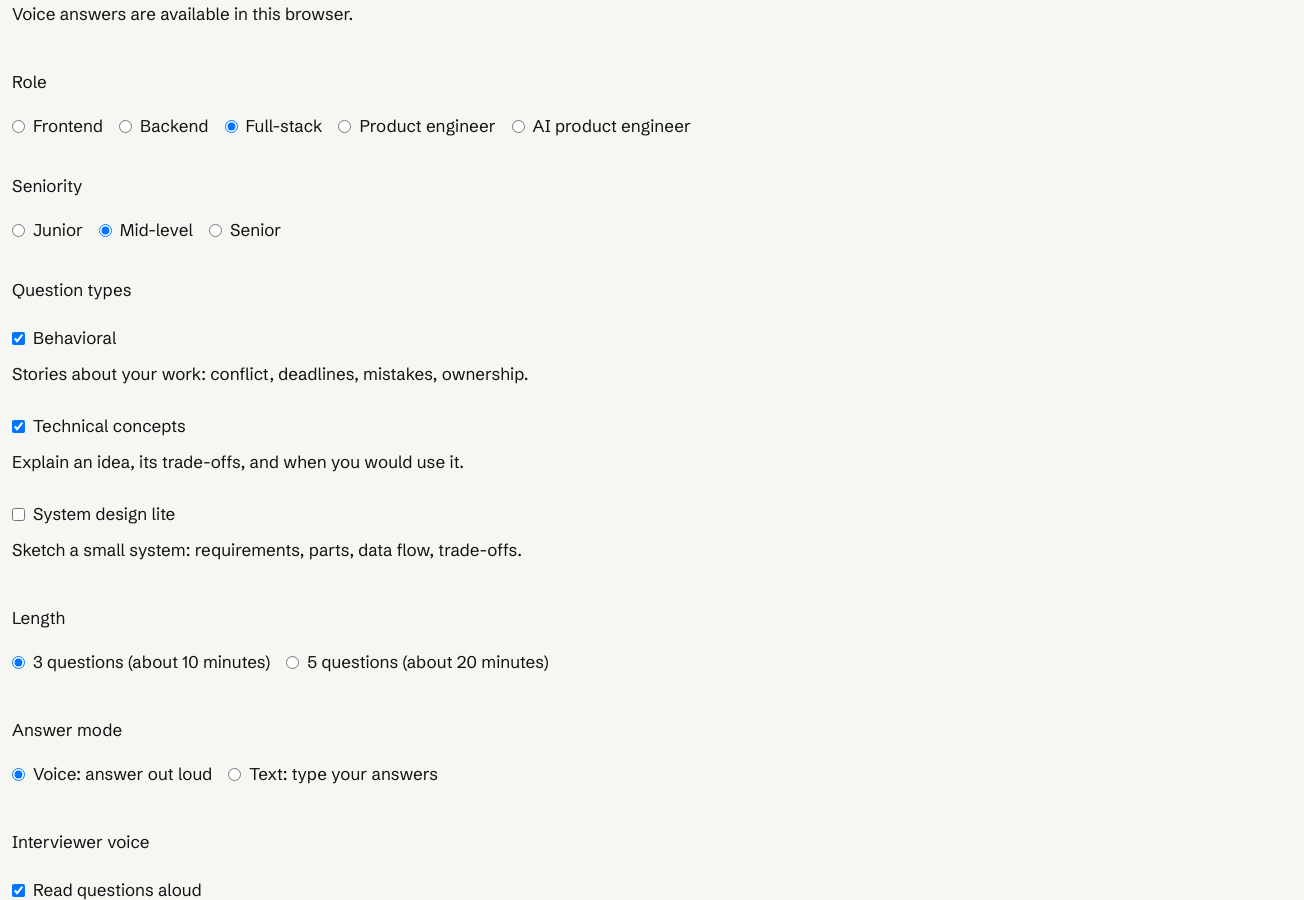
TC-033 CT-01 shows defaults, saves preferences and focuses missing question types
Expected: the radio button labelled "Full-stack" is checked, [225,120,238,132]
Expected: the radio button labelled "Mid-level" is checked, [99,224,112,236]
Click the radio button labelled "Backend" at (126, 126), box [119,120,132,132]
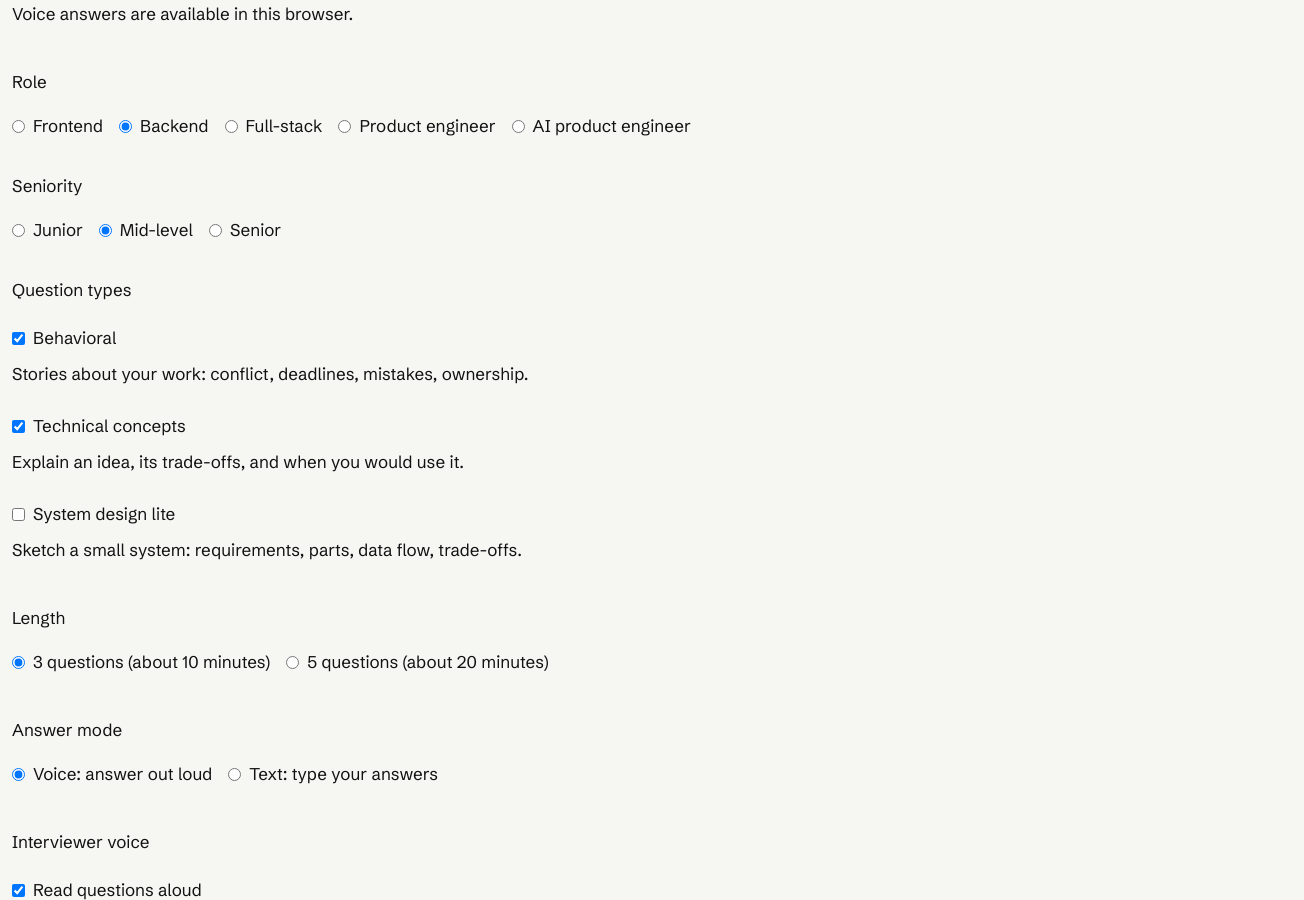
Click the radio button labelled "Text: type your answers" at (235, 774), box [228,768,241,780]
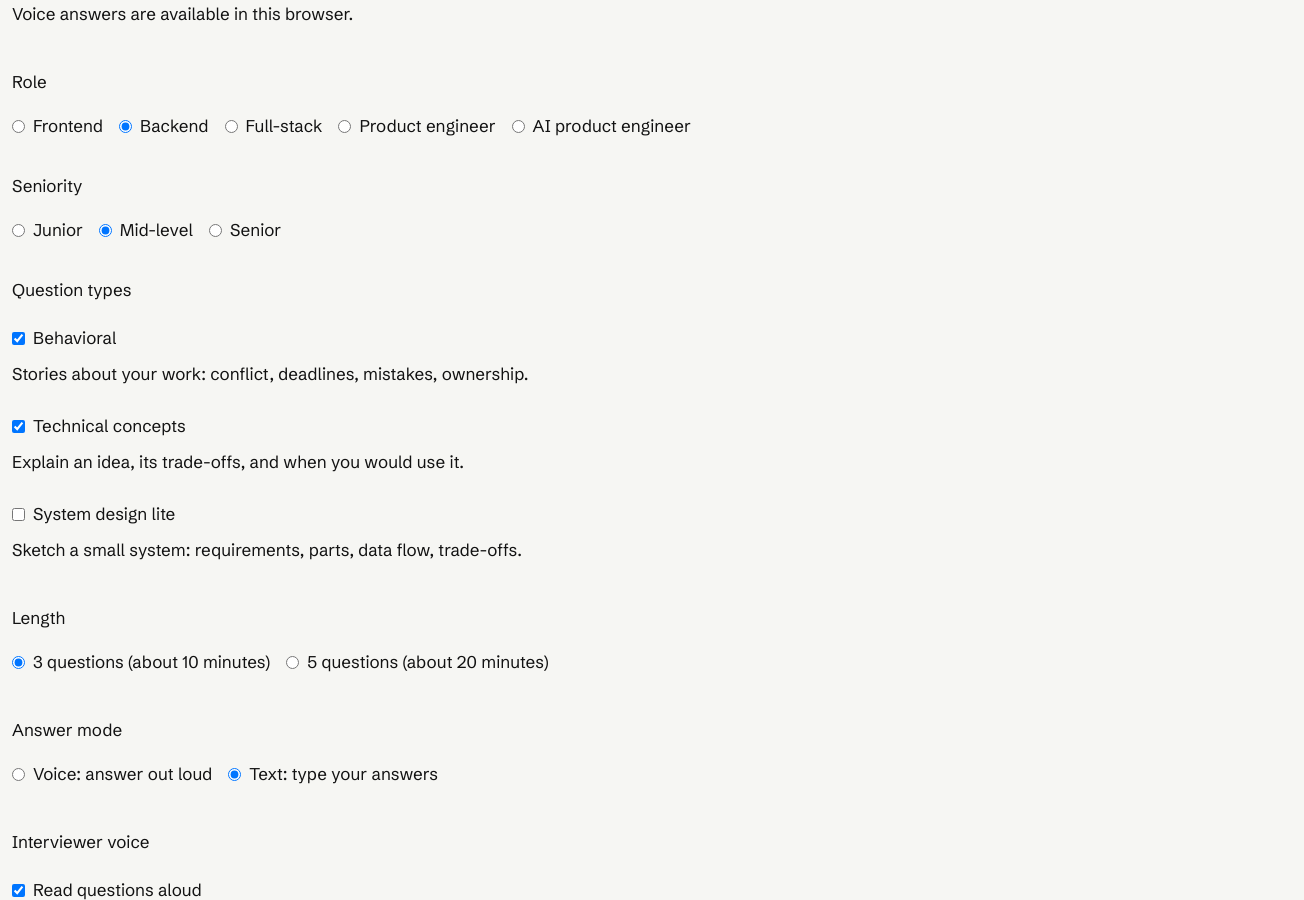
Click the checkbox labelled "Behavioral" at (18, 338), box [12,332,25,344]
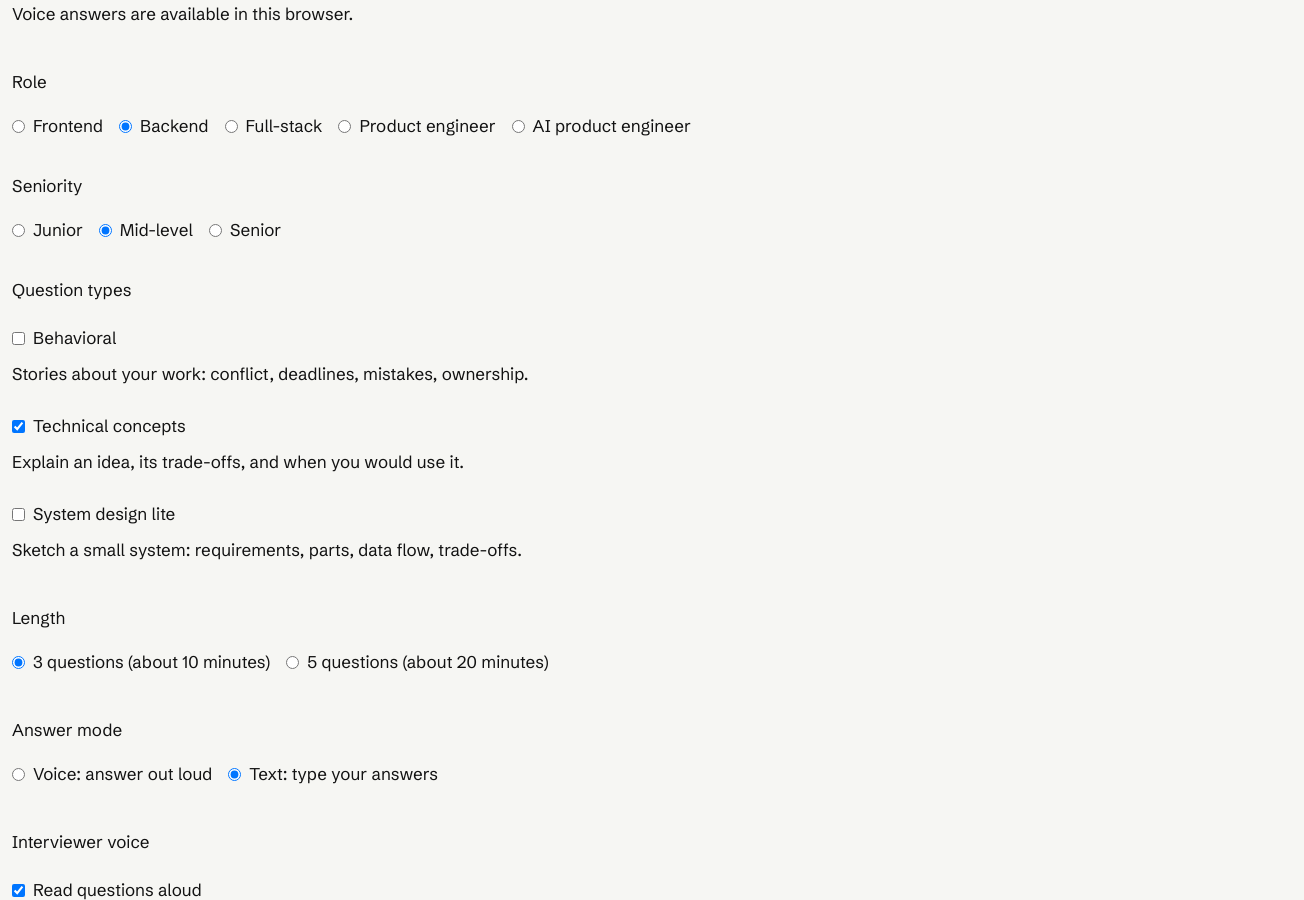
Click the checkbox labelled "Technical concepts" at (18, 426), box [12,420,25,432]
(page scrolled)
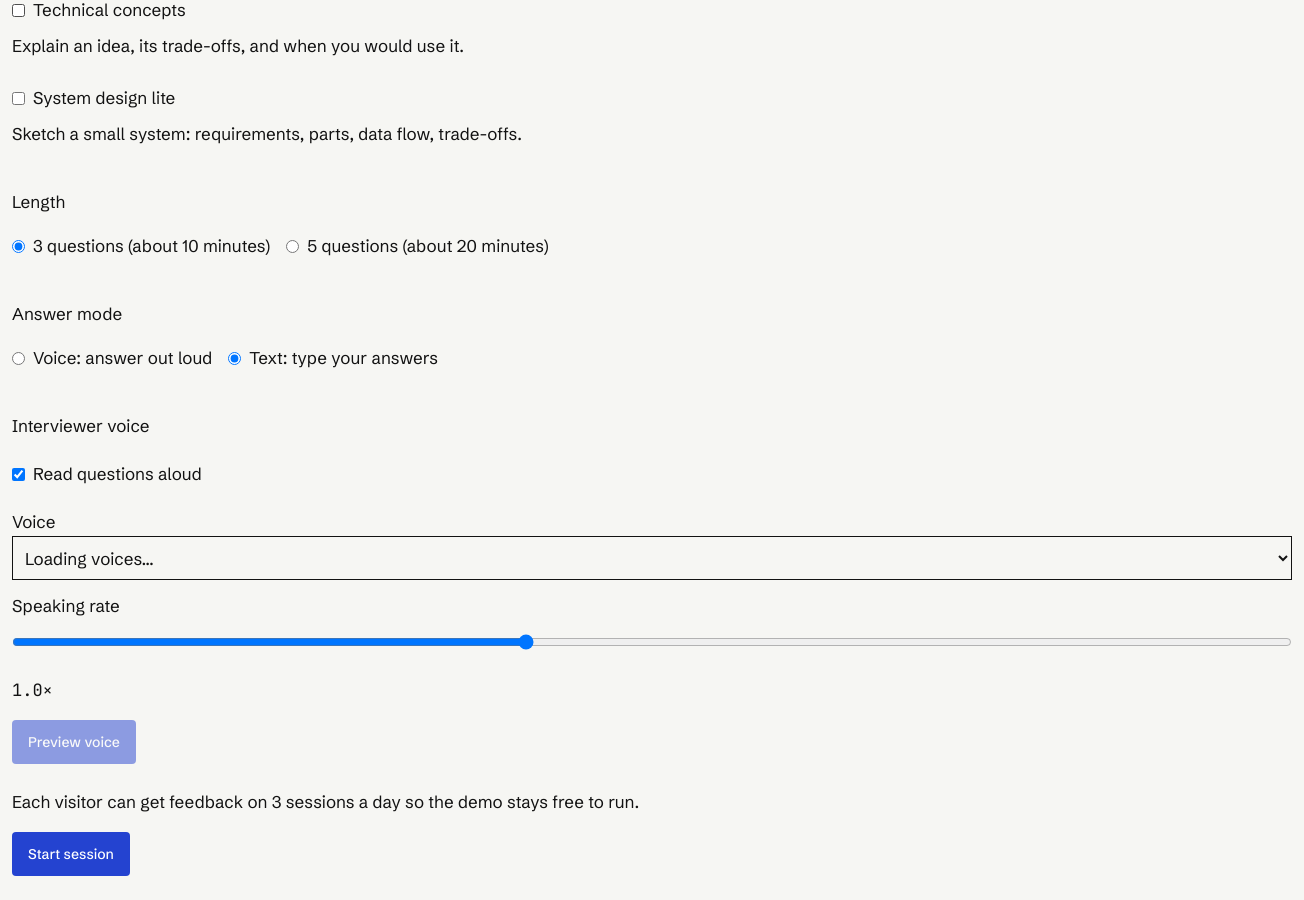
Click the button "Start session" at (71, 854), box [12,832,130,876]
(page scrolled)
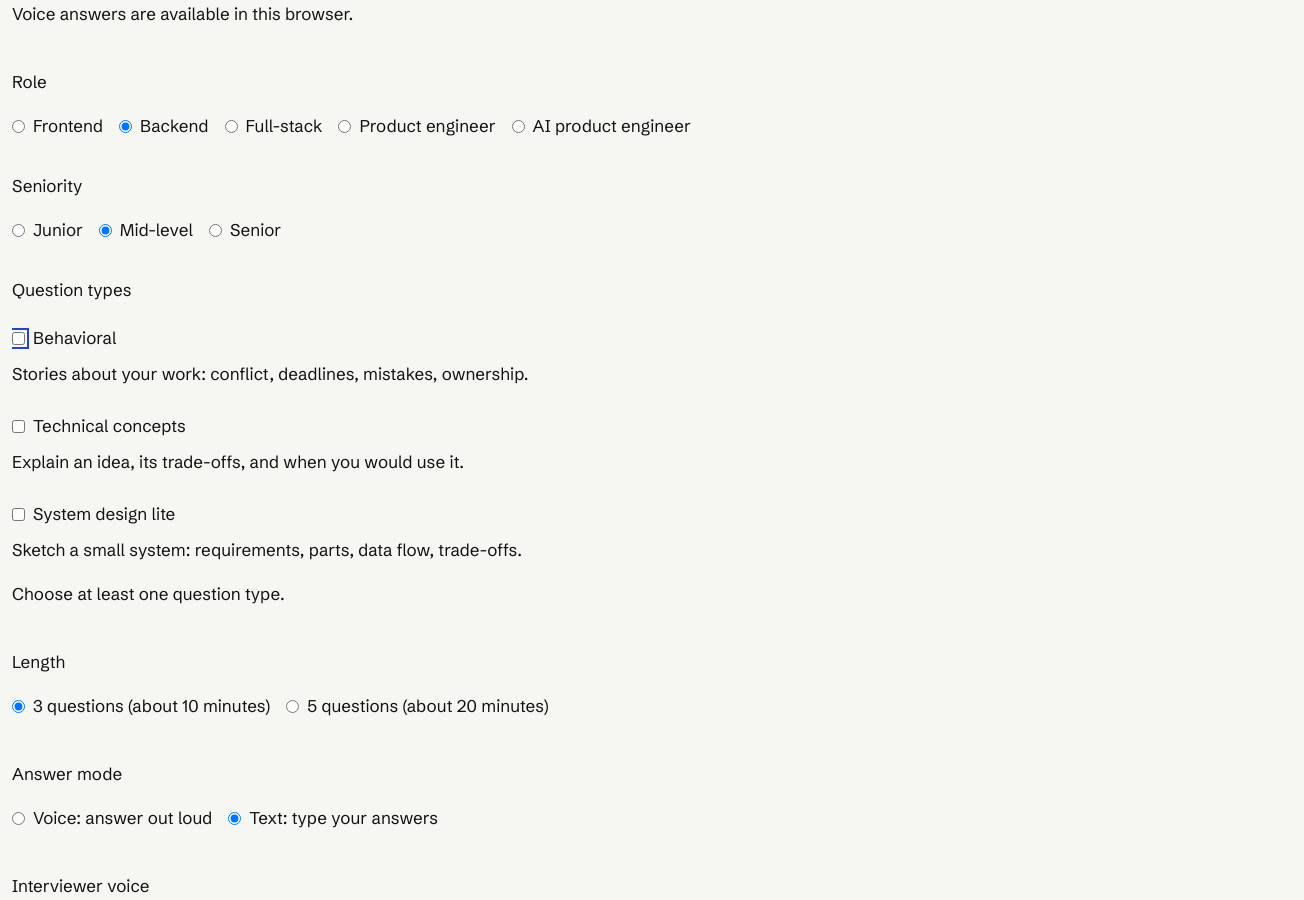
Result: the message reads "Choose at least one question type." at [12,583,285,604]
